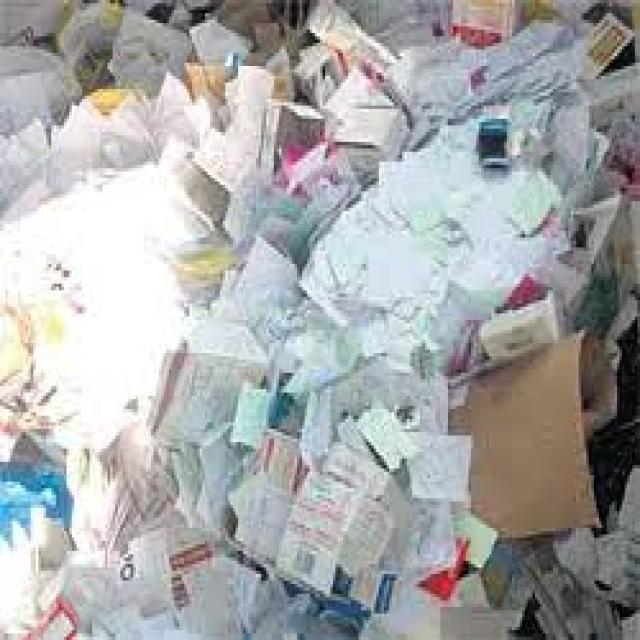Garbage: (7, 16, 640, 640)
